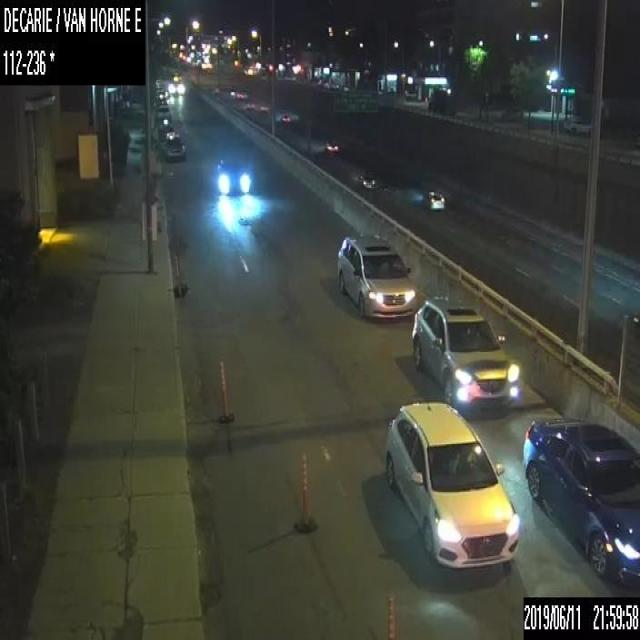construction: (294, 445, 316, 532), (217, 360, 233, 423), (173, 255, 186, 297), (384, 596, 392, 639)
vehicle: (384, 401, 522, 571), (519, 416, 639, 588), (411, 296, 520, 413), (214, 158, 252, 194), (157, 128, 185, 162), (420, 188, 445, 210), (353, 170, 376, 189), (167, 74, 184, 95), (156, 116, 172, 132), (322, 137, 339, 152), (156, 104, 170, 118), (275, 111, 290, 123), (236, 90, 247, 98), (246, 101, 254, 109), (259, 104, 267, 111), (342, 85, 348, 92)
